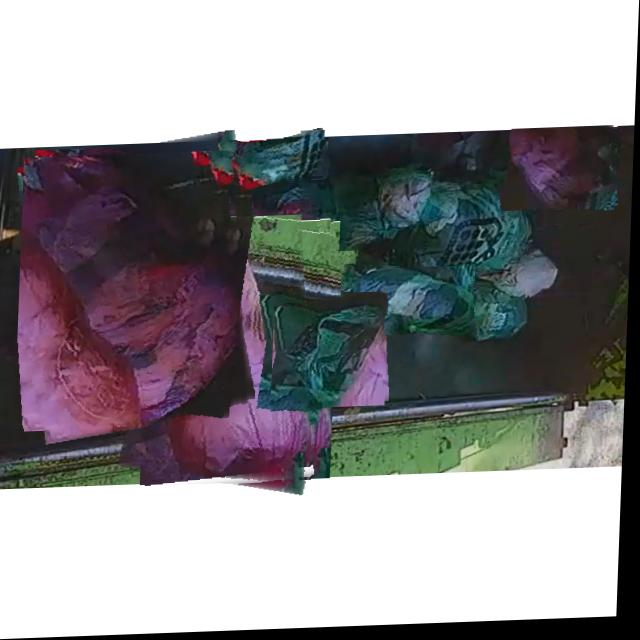general_trashbag: (405, 189, 530, 289), (277, 305, 386, 409), (343, 270, 475, 337), (334, 173, 431, 253), (239, 133, 326, 185), (461, 285, 531, 345)
other_trashbag: (24, 156, 248, 425), (154, 220, 316, 484), (512, 133, 618, 210)
